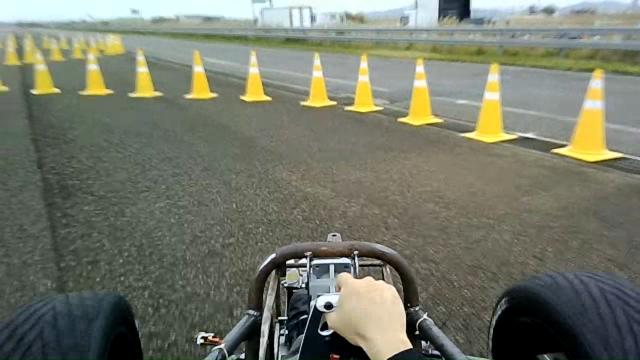yellow cone: (550, 67, 624, 162), (460, 62, 519, 143), (397, 57, 444, 126), (344, 53, 384, 113), (299, 52, 337, 108), (127, 47, 163, 98), (183, 49, 218, 100), (239, 50, 272, 102)
